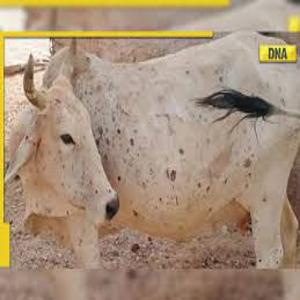lumpy skin diesease: (4, 28, 299, 270)
